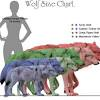Lobo: (4, 67, 61, 95), (18, 47, 86, 68), (6, 56, 66, 73)
